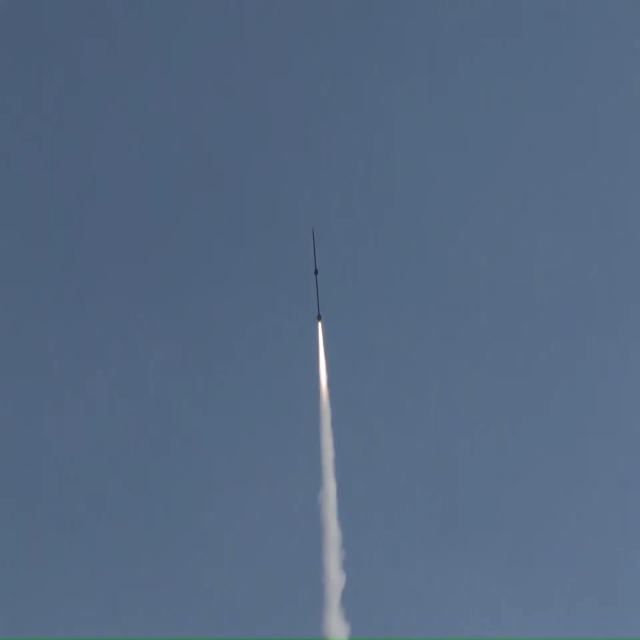Rocket: (312, 228, 324, 324)
